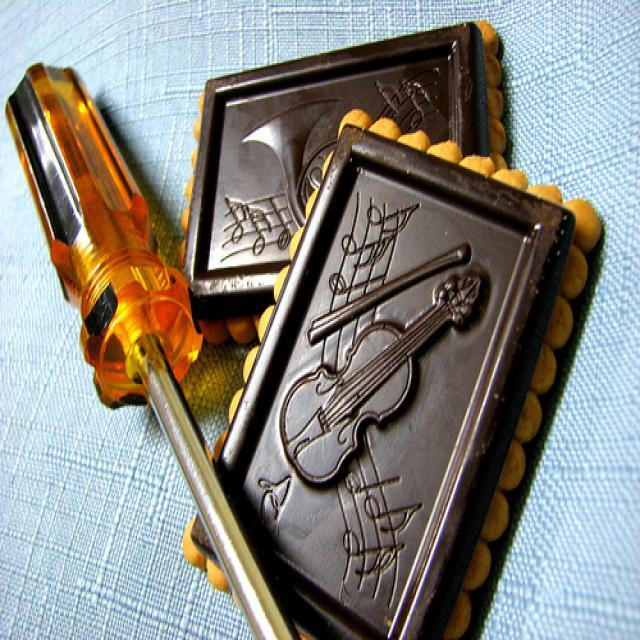screwdriver: (0, 56, 285, 639)
